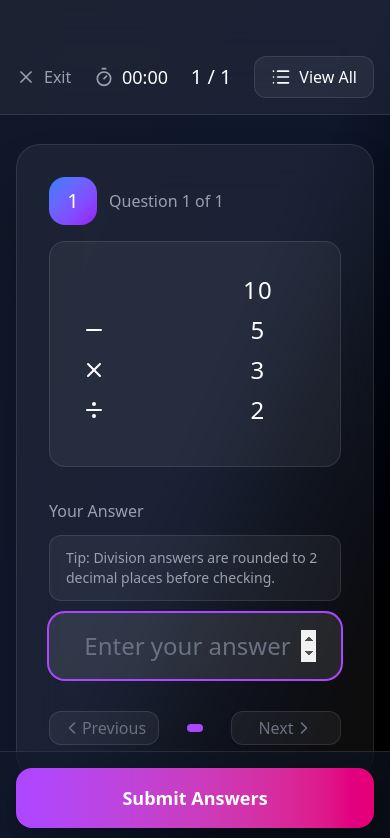
it: RegularGame › handles subtract, multiply, and divide operations with rounded answers
expect the heading "Question 1 of 1" is shown: met, box x1=109 y1=189 x2=224 y2=213
expect the text "Division answers are rounded" is shown: met, box x1=66 y1=548 x2=317 y2=587
Type "7.5" into the number field with placeholder "Enter your answer". click: (195, 646)
box: x1=49 y1=613 x2=341 y2=679
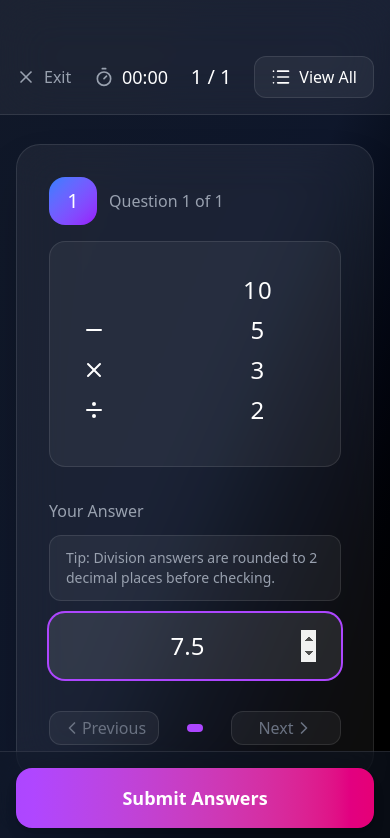
Click the button "Submit Answers". click: click(195, 798)
box: x1=16 y1=768 x2=374 y2=828
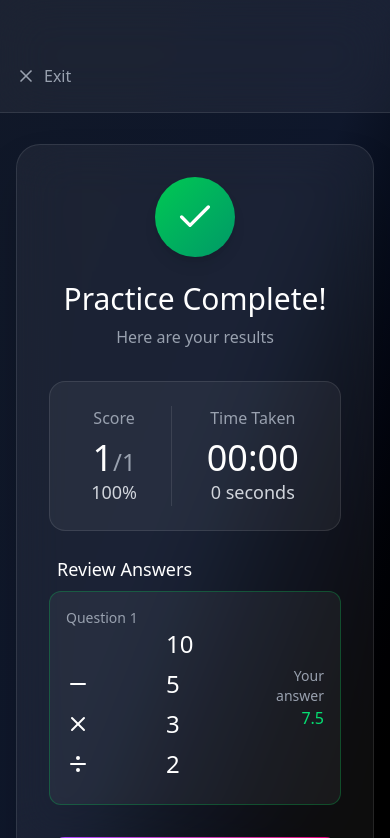
expect the heading "Practice Complete!" is shown: met, box x1=49 y1=281 x2=341 y2=317
expect the text "100%" is shown: met, box x1=91 y1=478 x2=137 y2=506
